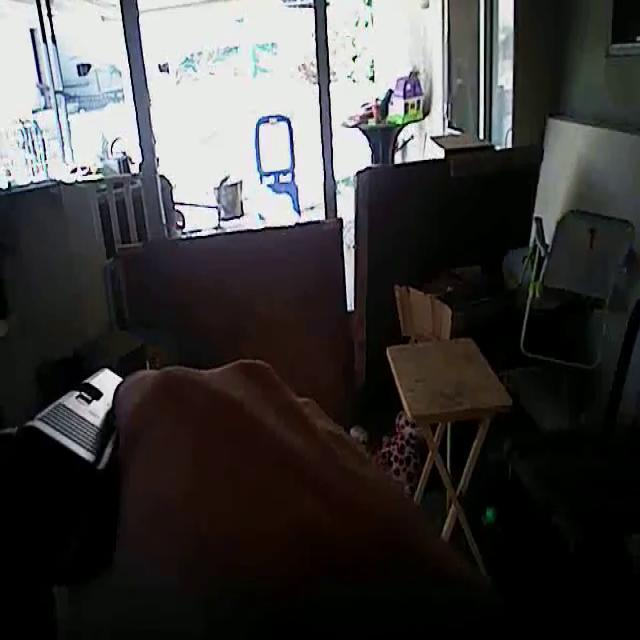gun: (0, 326, 195, 604)
